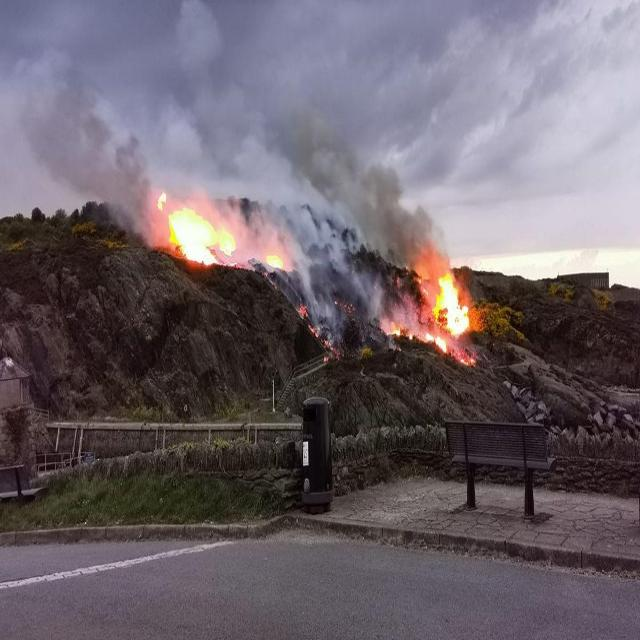Fire: (168, 212, 234, 270), (434, 274, 470, 336), (425, 327, 445, 356), (267, 253, 283, 268), (384, 324, 402, 337), (307, 321, 320, 338), (459, 356, 475, 366), (157, 193, 167, 208), (298, 302, 308, 317)
